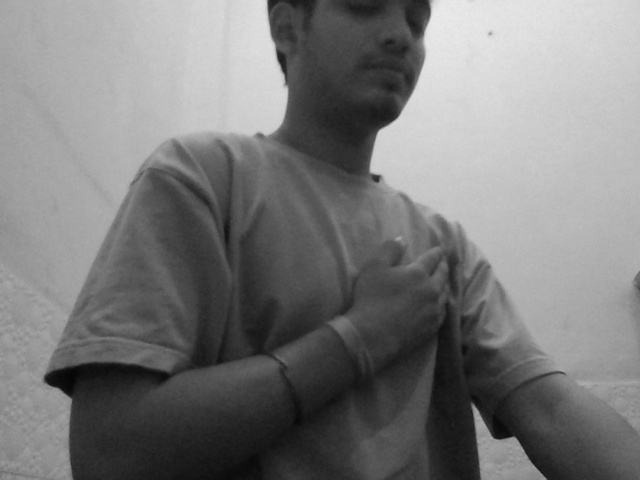Sorry: (284, 213, 504, 395)
